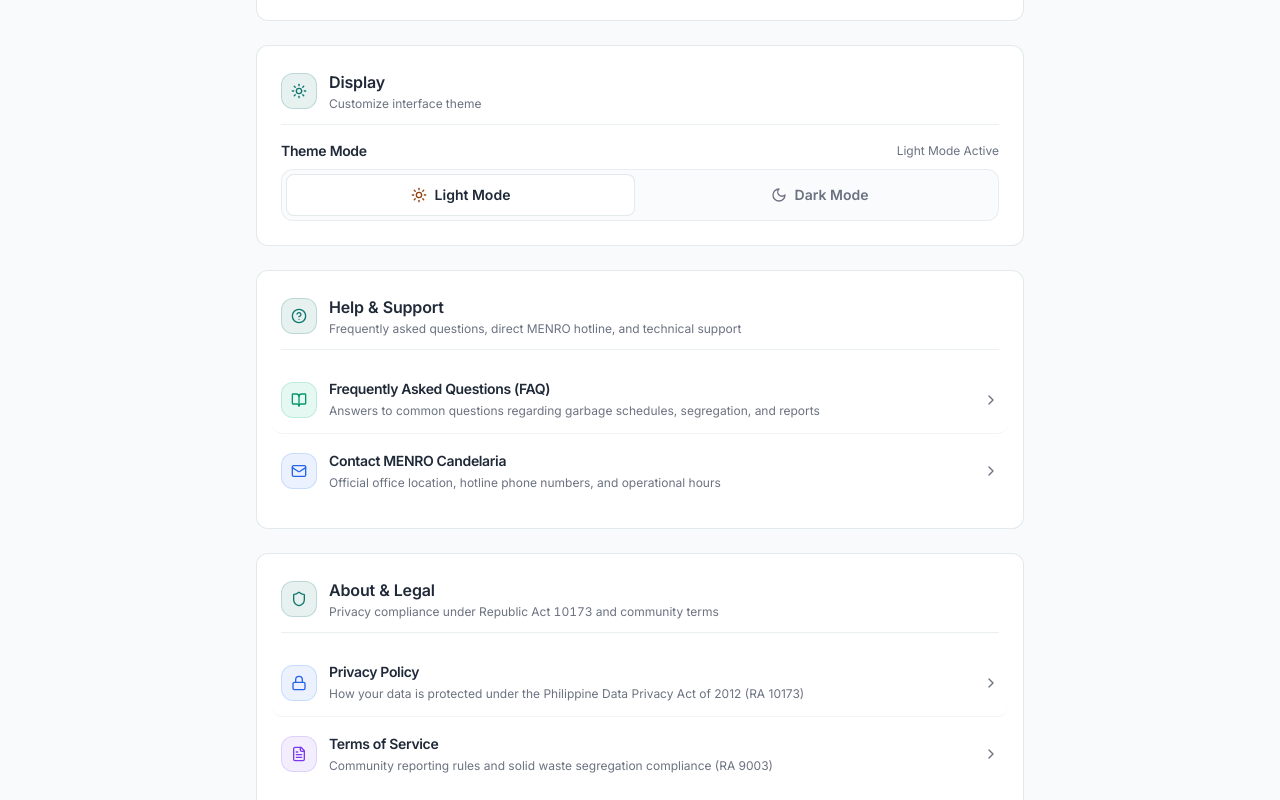
Test case: opens and closes the resident Frequently Asked Questions (FAQ) dialog while retaining its content
(page scrolled)
Click the button that starts with "Frequently Asked Questions (FAQ)" at (299, 400), box [271,366,1009,434]
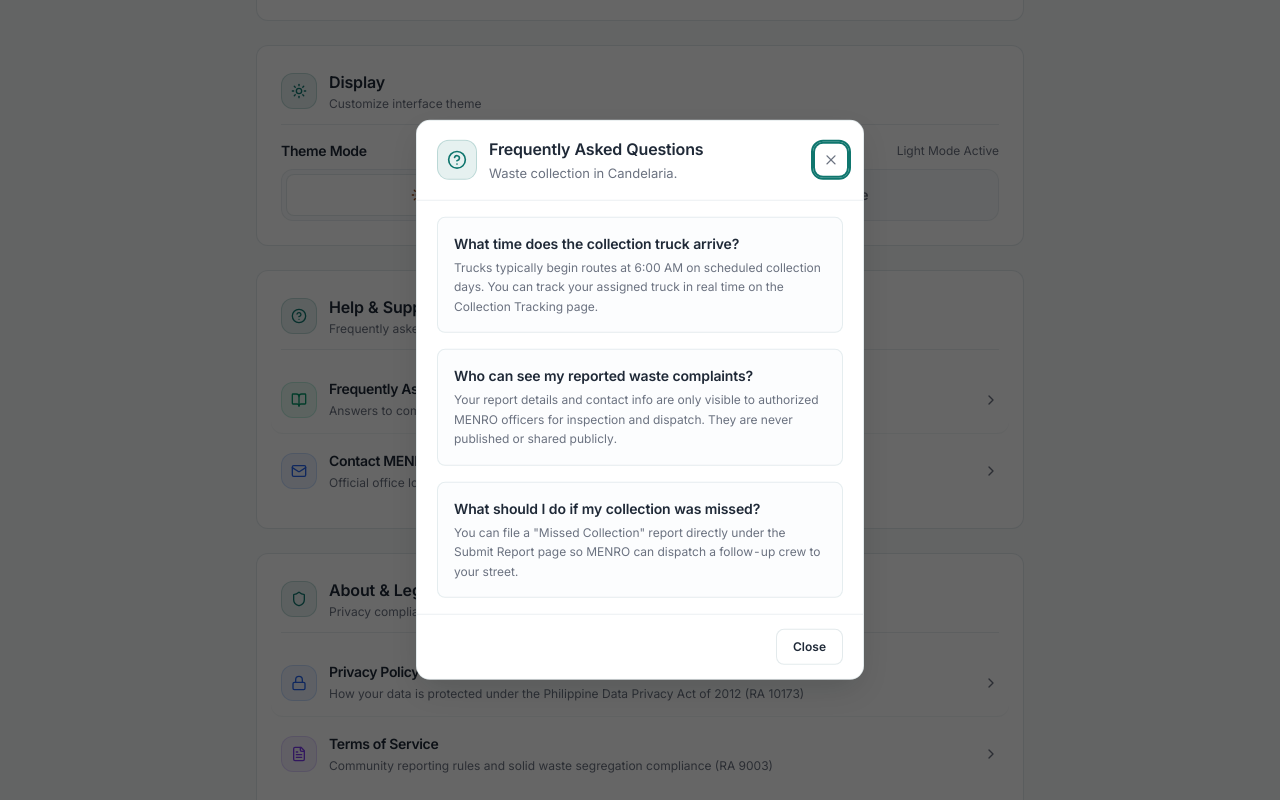
Result: the dialog shows "Frequently Asked Questions" at [489,139,704,159]
Result: the dialog shows "What time does the collection truck arrive?" at [454,235,739,252]
Click the button named "Close dialog" at (831, 160), box [815,144,847,176]
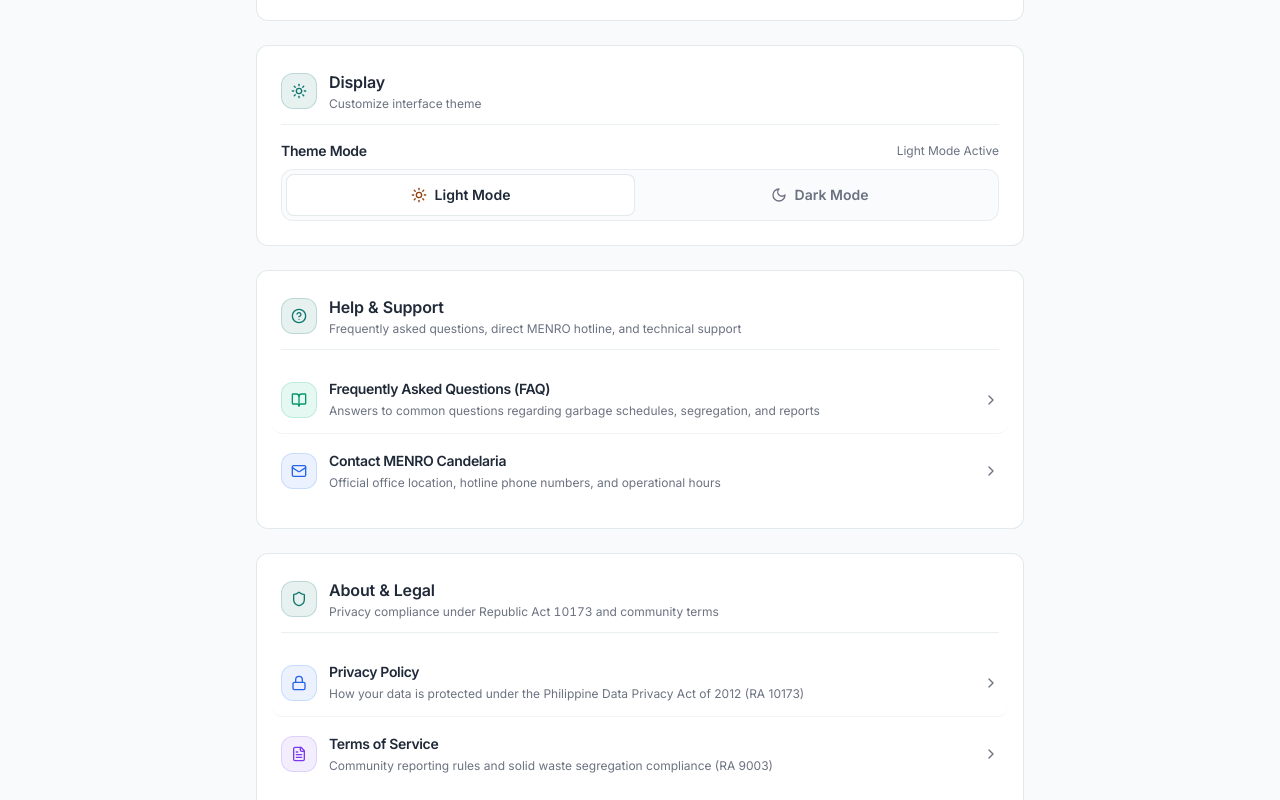
Result: the button is gone
